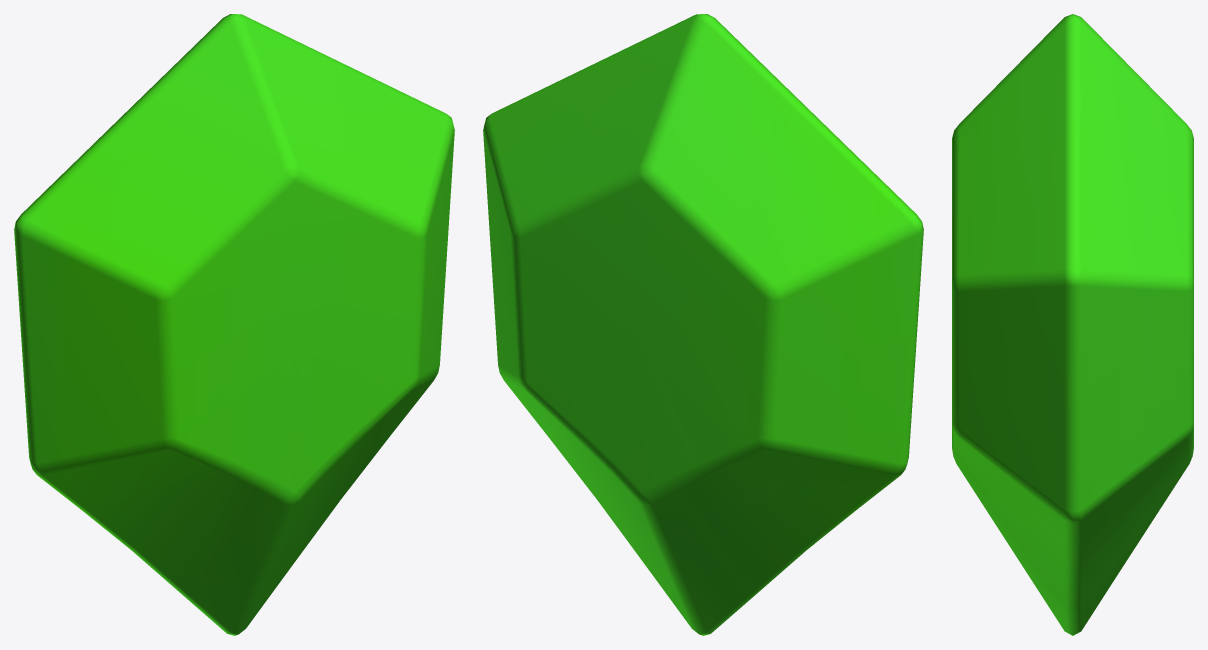
3 views of the same model, side by side, from view 1: azimuth 30°, elevation 25°; view 2: azimuth 150°, elevation 25°; view 3: azimuth 270°, elevation 25° (orthographic).
Visible parts, largest first — view 1: model_1.140; view 2: model_1.140; view 3: model_1.140.
Boxes of the visible parts, x1,y1,x2,y2 form: model_1.140: [14, 14, 454, 635]; model_1.140: [483, 14, 923, 635]; model_1.140: [952, 14, 1193, 635].
Size of the model in its own units: 3.32 by 4.51 by 1.59.
